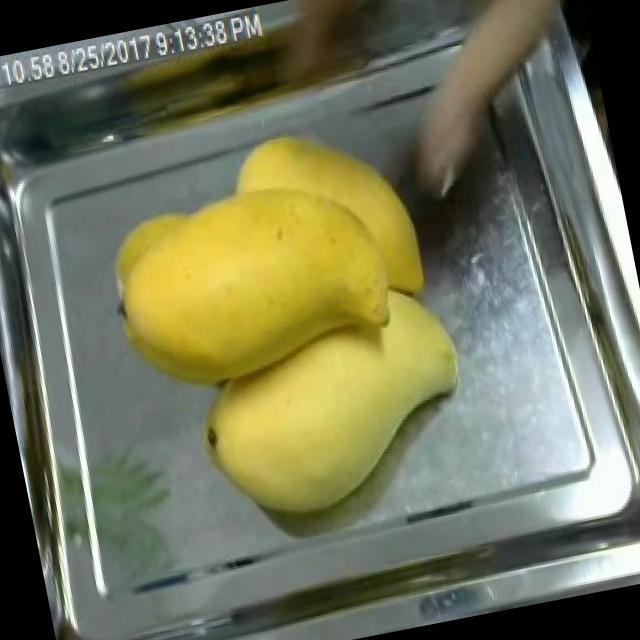fruit: (74, 86, 468, 416), (174, 280, 500, 546)
